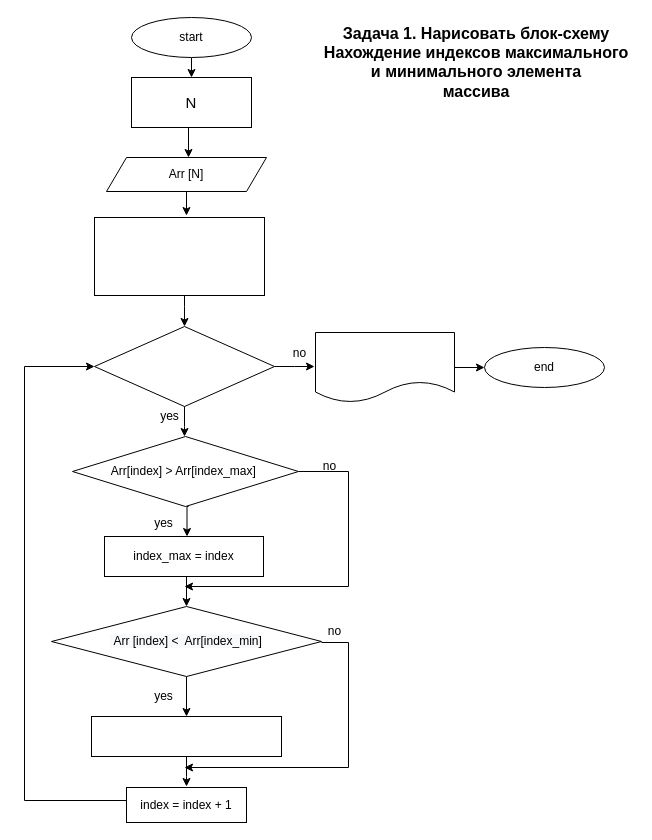
The diagram is 652 pixels wide and 840 high, and some of its shapes have lost their labels. Here are the shapes that lost their labels. From the top down, the box of each, then its label:
(94, 216, 264, 296): array = [...] index_max = 0 index_min = 0 index = 0
(94, 326, 274, 406): index < N
(314, 332, 454, 402): print index_max index_min
(90, 716, 282, 756): index_min = index
